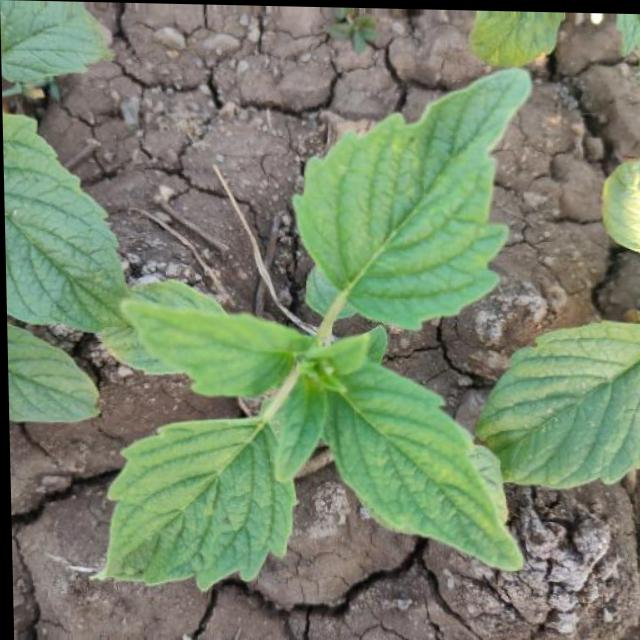crop: (57, 47, 557, 633)
